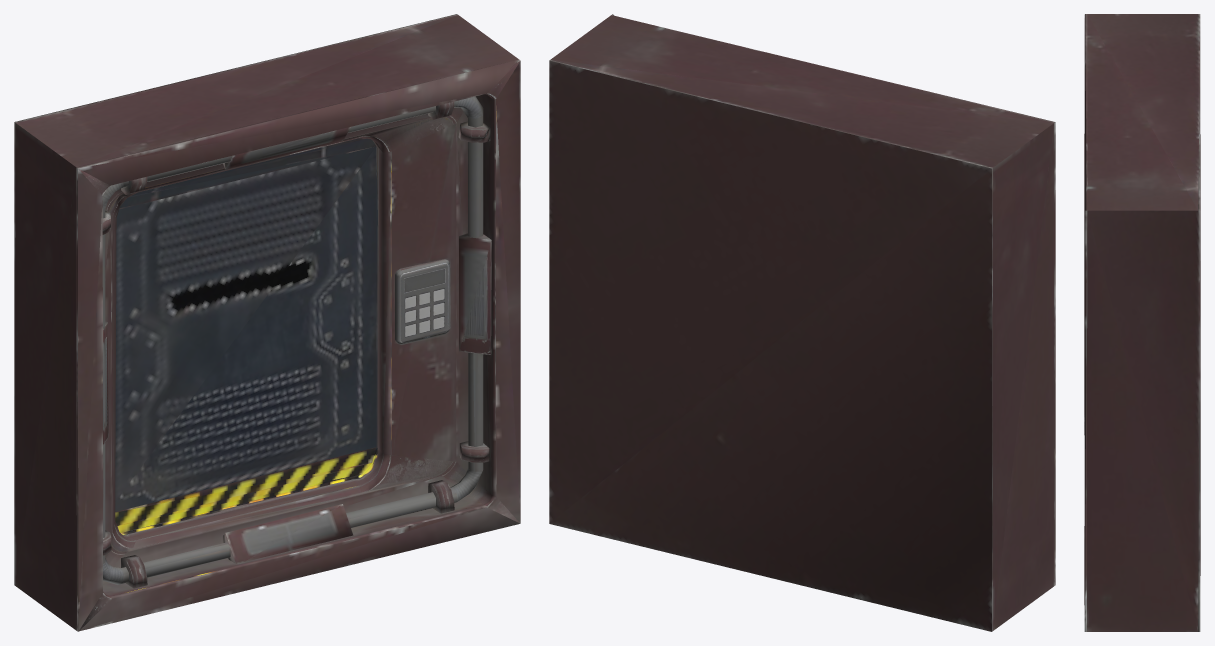
The model's file is kit_door_small.glb.
3 renders of one model, left to right at view 1: azimuth 30°, elevation 25°; view 2: azimuth 150°, elevation 25°; view 3: azimuth 270°, elevation 25°, orthographic. The views are drawn at different scales.
Parts seen in each view (by area): view 1: kit_door_small; view 2: kit_door_small; view 3: kit_door_small.
Part boxes in pixels (x1,y1,x2,y2): kit_door_small: (14, 14, 520, 631); kit_door_small: (549, 14, 1055, 631); kit_door_small: (1084, 14, 1200, 631).
Bounding box in the file's own units: 4 × 4 × 1.
1 material, 1 textured.
